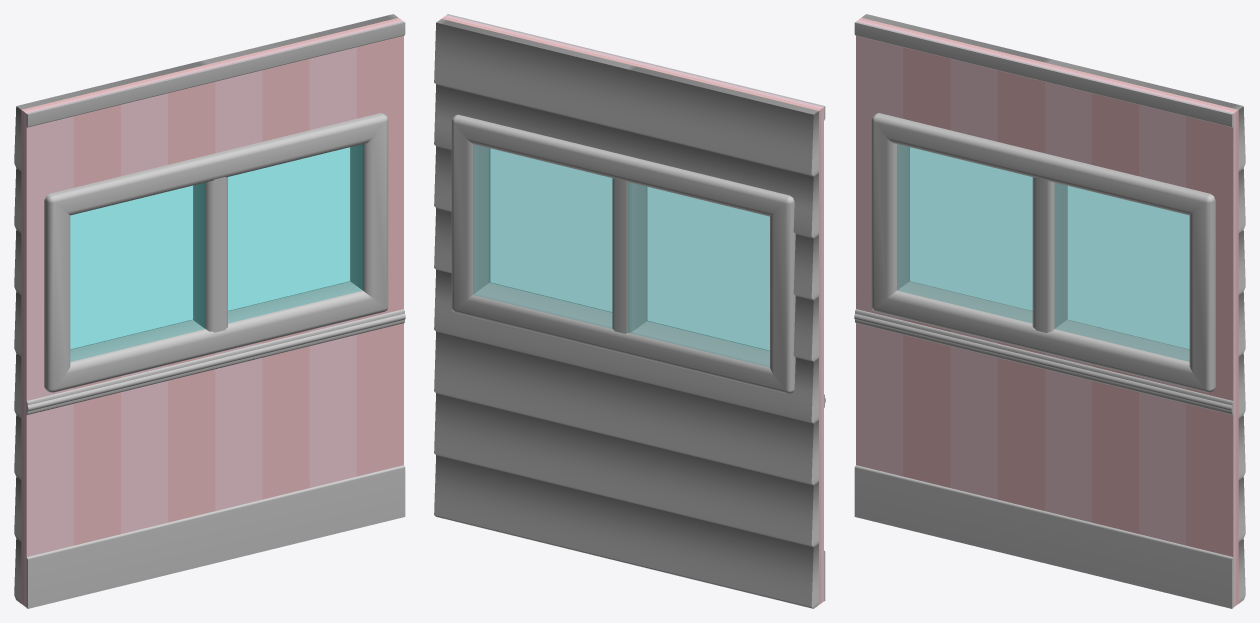
Rendered from Window_Cutout.fbx.
3 views of the same model, side by side, from view 1: azimuth 30°, elevation 25°; view 2: azimuth 150°, elevation 25°; view 3: azimuth 330°, elevation 25° (orthographic).
Parts seen in each view (by area): view 1: Window_Transparent, Wall_Interior4_Window, Wall_Interior5_Window, Wall_Exterior5_Window, Wall_Exterior6_Window; view 2: Window_Transparent, Wall_Exterior5_Window, Wall_Exterior6_Window, Wall_Interior4_Window, Wall_Interior5_Window; view 3: Window_Transparent, Wall_Interior5_Window, Wall_Interior4_Window, Wall_Exterior6_Window, Wall_Exterior5_Window.
Part boxes in pixels (<box>): Window_Transparent: <box>44,113,388,392</box>; Wall_Interior4_Window: <box>21,64,216,608</box>; Wall_Interior5_Window: <box>210,18,405,562</box>; Wall_Exterior5_Window: <box>14,60,209,603</box>; Wall_Exterior6_Window: <box>205,14,398,63</box>; Window_Transparent: <box>451,114,795,393</box>; Wall_Exterior5_Window: <box>623,65,818,608</box>; Wall_Exterior6_Window: <box>434,19,629,562</box>; Wall_Interior4_Window: <box>630,60,825,604</box>; Wall_Interior5_Window: <box>441,14,635,64</box>; Window_Transparent: <box>871,113,1215,392</box>; Wall_Interior5_Window: <box>1043,64,1238,608</box>; Wall_Interior4_Window: <box>854,18,1049,562</box>; Wall_Exterior6_Window: <box>1050,60,1245,603</box>; Wall_Exterior5_Window: <box>861,14,1054,63</box>.
Size of the model in its own units: 2 by 2.5 by 0.1848.
